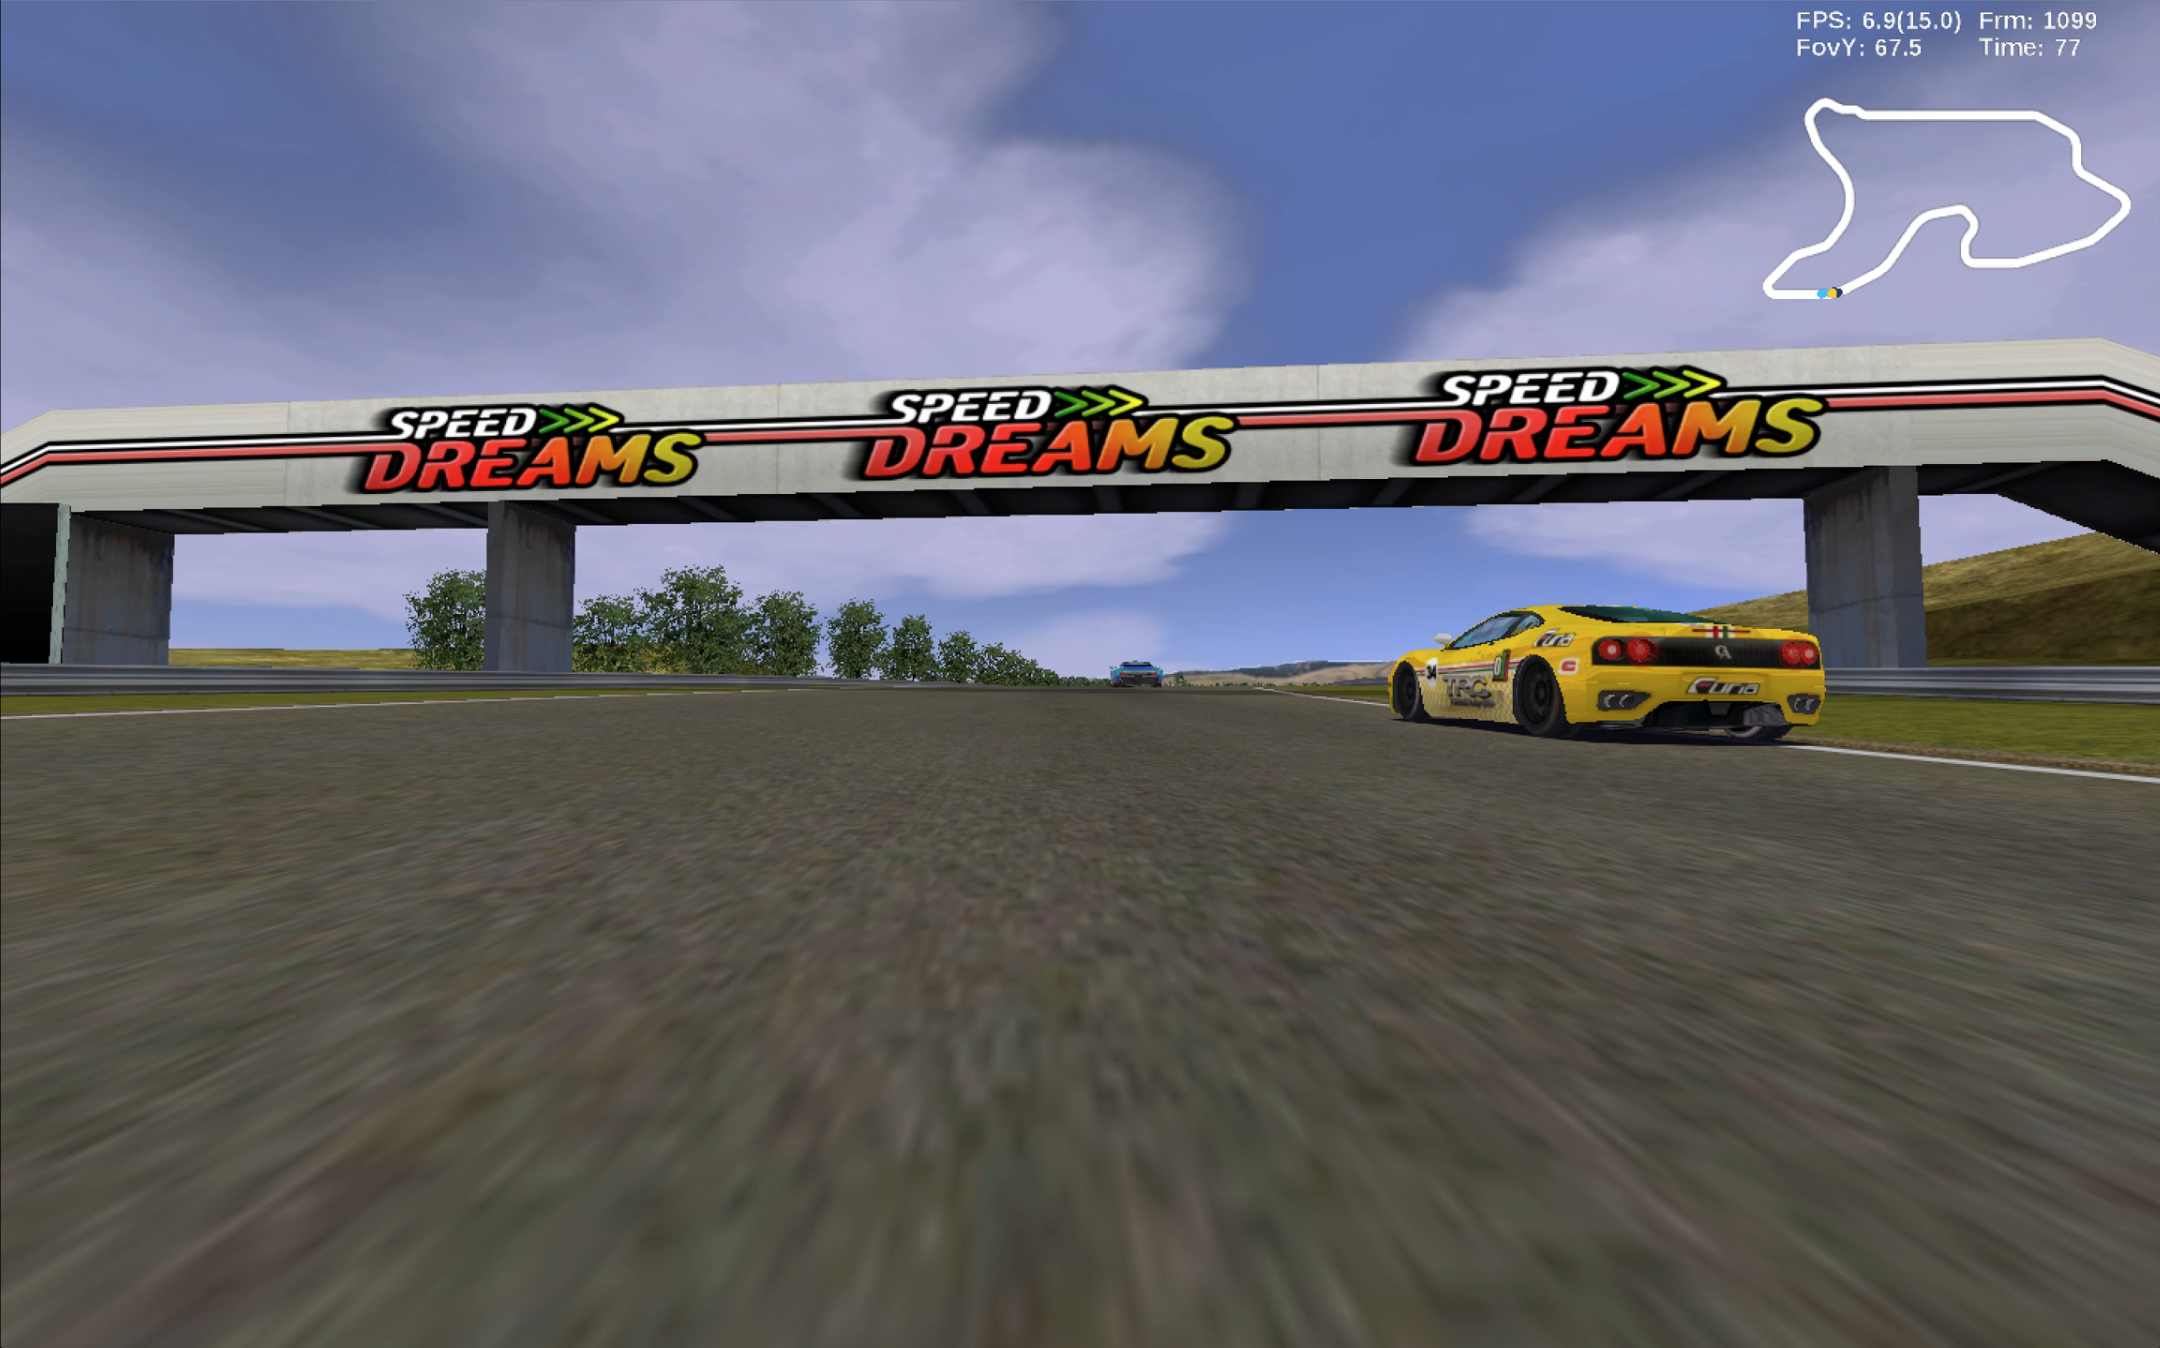Cavallo360: (1391, 604, 1828, 742)
Lynx220: (1110, 660, 1165, 690)
